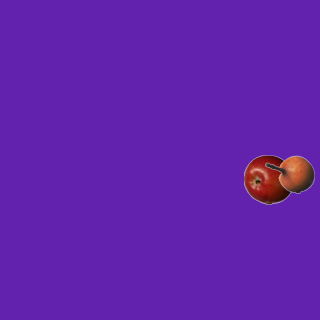Apple Braeburn: (243, 154, 293, 204)
Granadilla: (264, 149, 314, 199)
